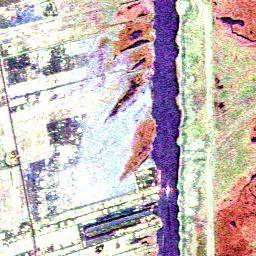Ship: (162, 182, 173, 199)
